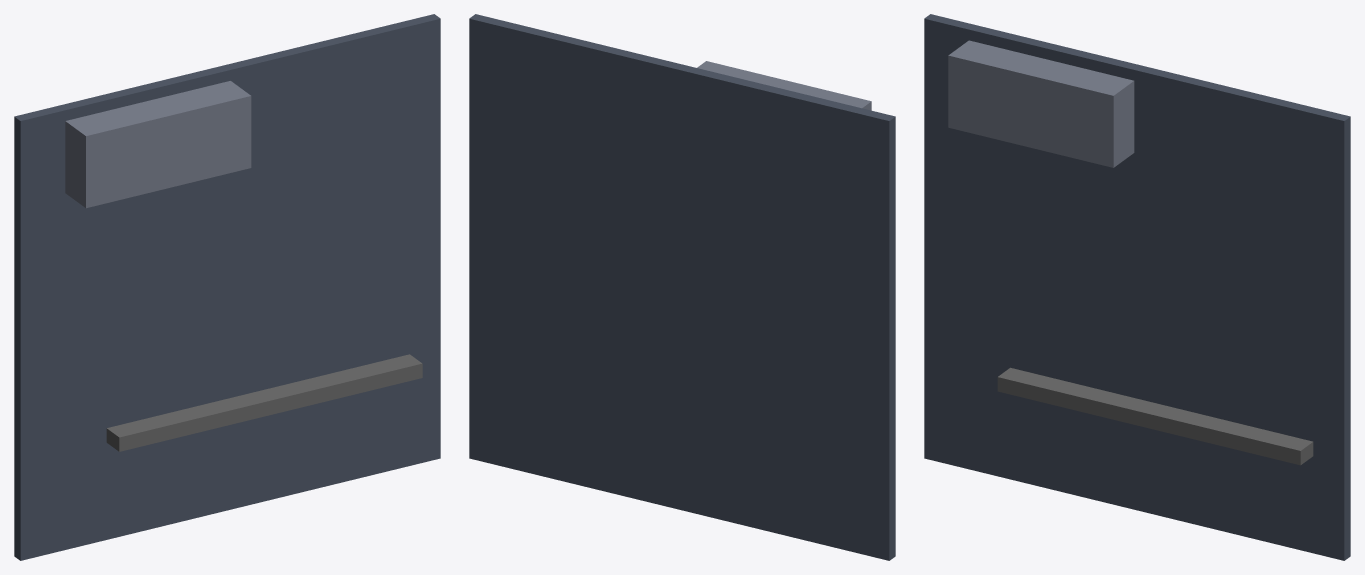
Rendered from motherboard.glb.
3 renders of one model, left to right at view 1: azimuth 30°, elevation 25°; view 2: azimuth 150°, elevation 25°; view 3: azimuth 330°, elevation 25°, orthographic.
Visible parts, largest first — view 1: PCB, VRMHeatsink, PCIeSlot; view 2: PCB, VRMHeatsink; view 3: PCB, VRMHeatsink, PCIeSlot.
Boxes of the visible parts, box(x1,y1,x2,y2) form: PCB: box(14, 14, 440, 560); VRMHeatsink: box(65, 81, 251, 208); PCIeSlot: box(106, 354, 422, 451); PCB: box(469, 14, 895, 560); VRMHeatsink: box(697, 61, 871, 110); PCB: box(924, 14, 1350, 560); VRMHeatsink: box(948, 40, 1134, 167); PCIeSlot: box(997, 367, 1313, 465).
Bounding box in the file's own units: 3.05 × 3.05 × 0.34.
